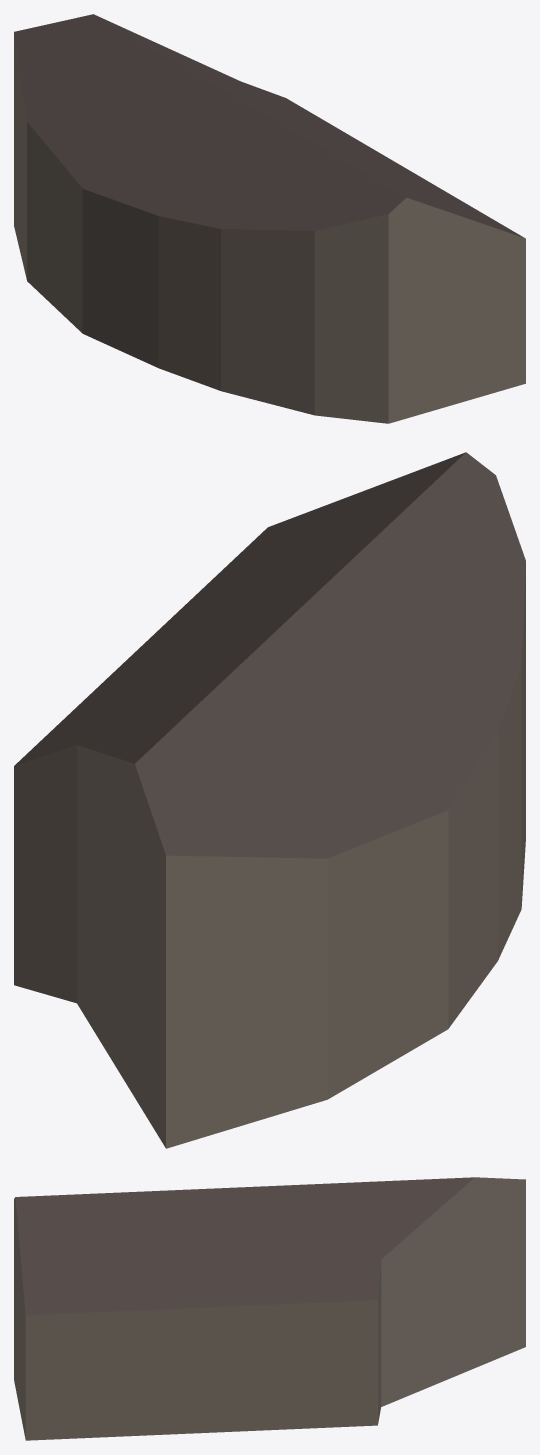
The picture shows the model from 3 angles, top to bottom: view 1: azimuth 30°, elevation 25°; view 2: azimuth 150°, elevation 25°; view 3: azimuth 270°, elevation 25°; orthographic projection. The views are drawn at different scales.
Visible parts, largest first — view 1: HP-w1198648875; view 2: HP-w1198648875; view 3: HP-w1198648875.
Boxes of the visible parts, x1,y1,x2,y2 form: HP-w1198648875: [14, 14, 525, 423]; HP-w1198648875: [14, 452, 525, 1148]; HP-w1198648875: [14, 1177, 525, 1440].
Size of the model in its own units: 12.18 by 9.14 by 22.23.
